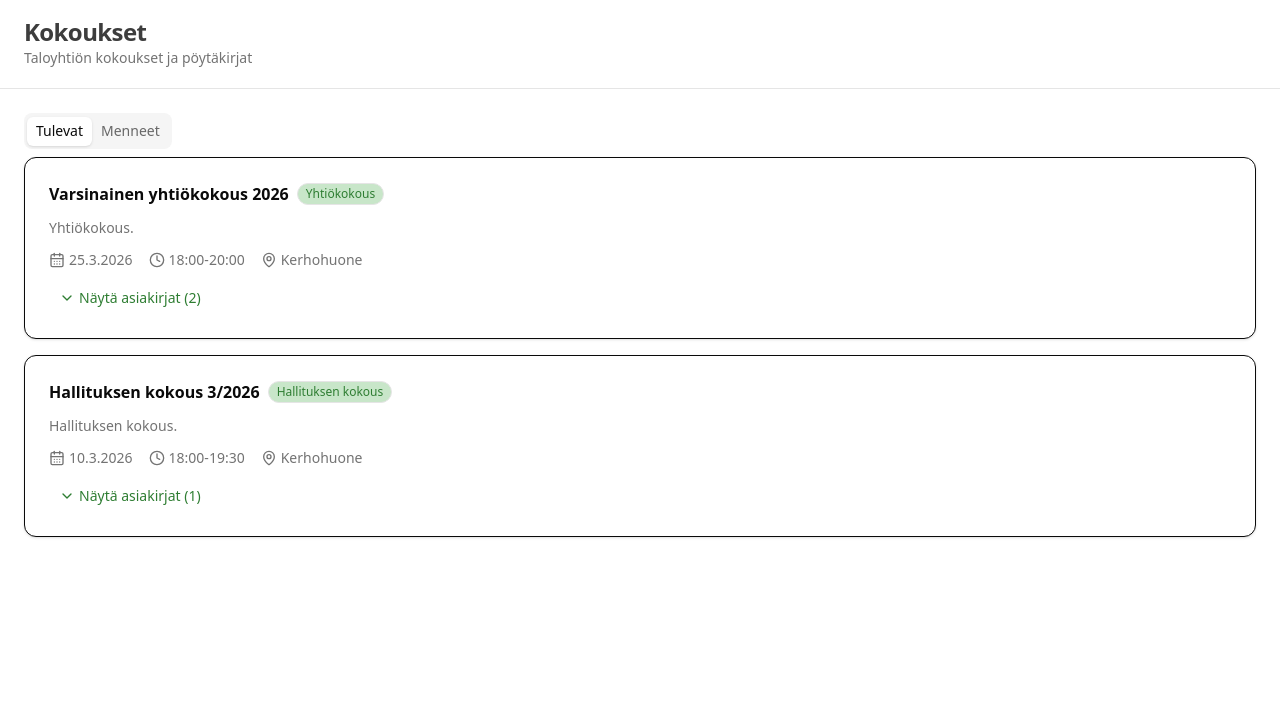
Test: MeetingsPage › shows past meetings when tab is clicked
Expected: the text "Varsinainen yhtiökokous 2026" is shown, [49, 182, 289, 206]
Click the tab "Menneet" at x=130, y=131, box [92, 116, 169, 146]
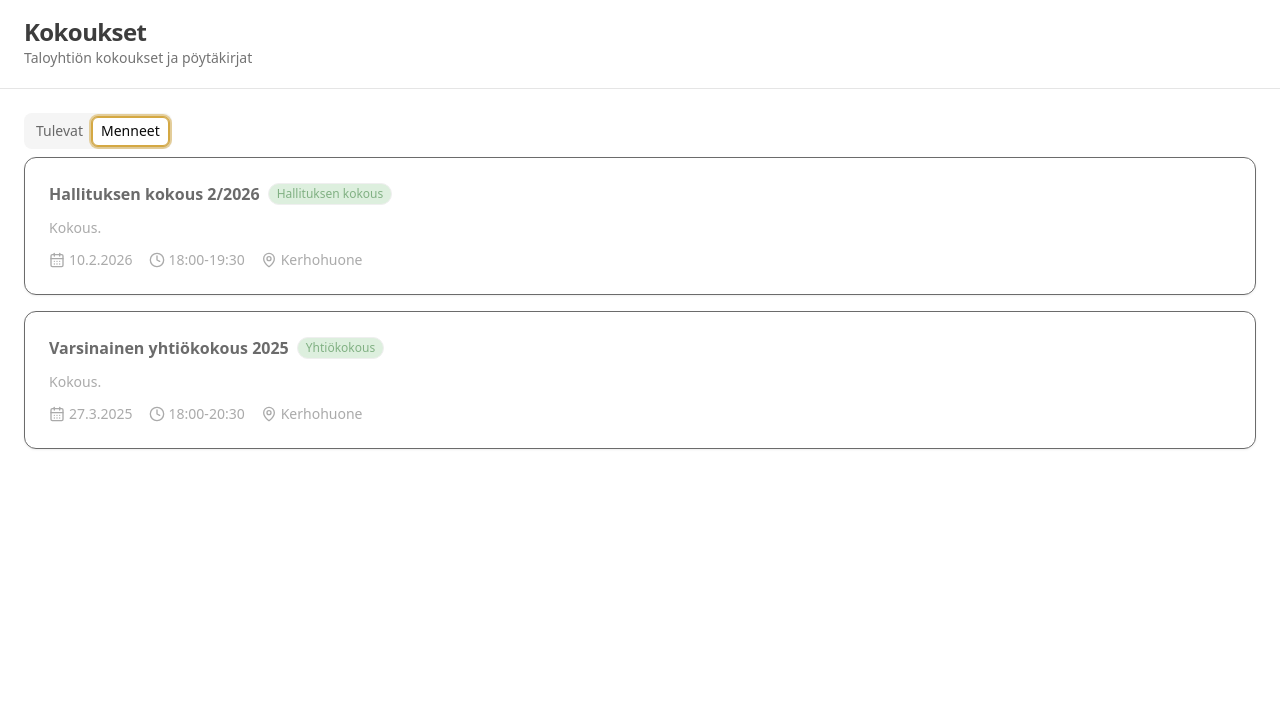
Now the text "Hallituksen kokous 2/2026" is shown, box [49, 182, 260, 206]
Now the text "Varsinainen yhtiökokous 2025" is shown, box [49, 336, 289, 360]
